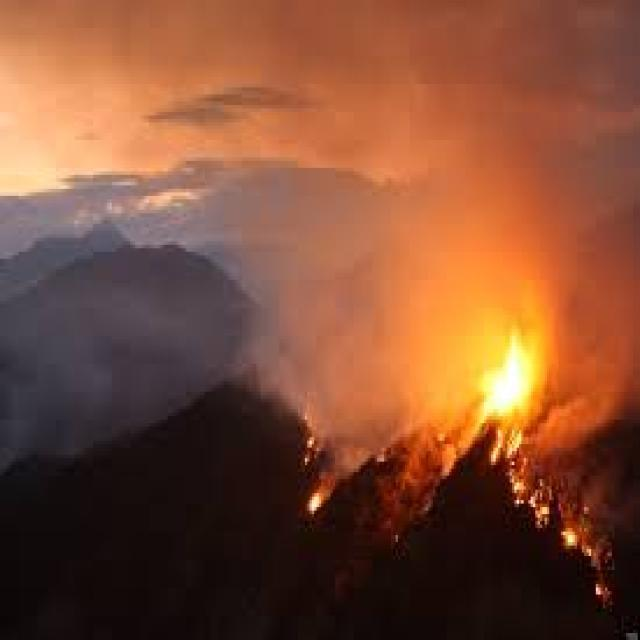Fire: (478, 339, 580, 551), (305, 486, 323, 518)
Smoke: (0, 0, 640, 458)
